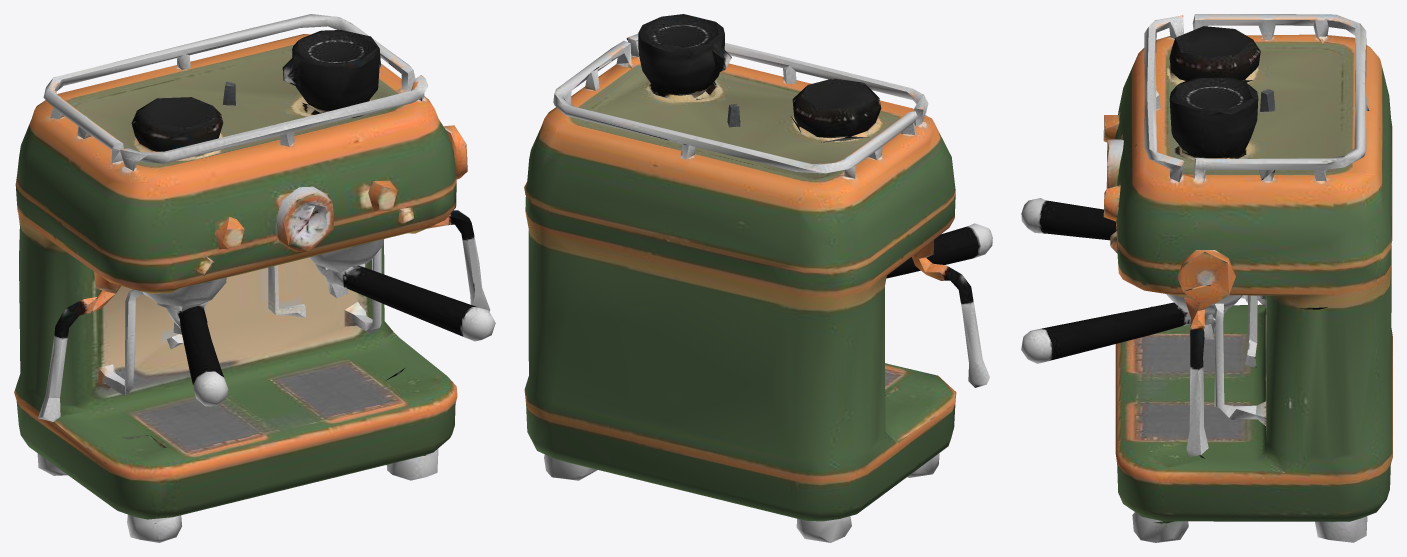
Rendered from espresso-machine.glb.
The picture shows the model from 3 angles, left to right: view 1: azimuth 30°, elevation 25°; view 2: azimuth 150°, elevation 25°; view 3: azimuth 270°, elevation 25°; orthographic projection. The views are drawn at different scales.
Visible parts, largest first — view 1: machine, portafilter; view 2: machine, portafilter; view 3: machine, portafilter.
Boxes of the visible parts, <box> form: machine: <box>14,14,490,542</box>; portafilter: <box>157,263,495,406</box>; machine: <box>524,14,989,542</box>; portafilter: <box>886,223,992,278</box>; machine: <box>1103,14,1392,542</box>; portafilter: <box>1021,198,1215,363</box>.
Size of the model in its own units: 1.1 by 0.9698 by 0.785.
1 material, 1 textured.
